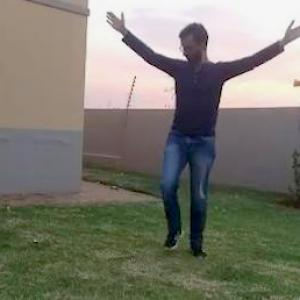takeoff: (102, 10, 299, 274)
